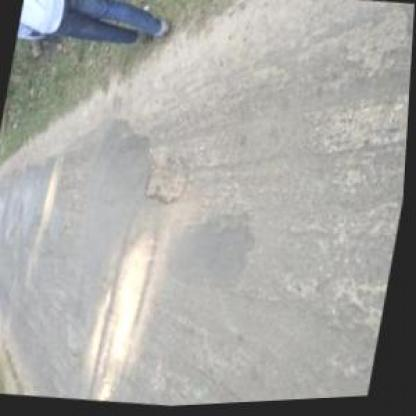pothole: (141, 144, 200, 211)
